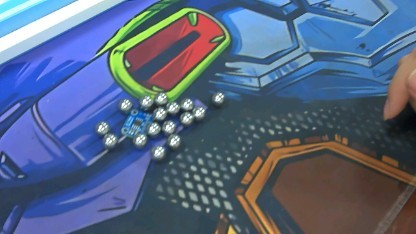ironball: (149, 87, 168, 106), (90, 116, 108, 133), (148, 146, 171, 159), (210, 89, 226, 107), (130, 128, 146, 146), (102, 133, 117, 151), (164, 133, 182, 147), (137, 94, 152, 109), (117, 97, 131, 112), (162, 118, 175, 134), (144, 123, 160, 136), (191, 104, 205, 118), (178, 112, 192, 125), (179, 95, 192, 109), (152, 107, 165, 119), (166, 100, 176, 112)
